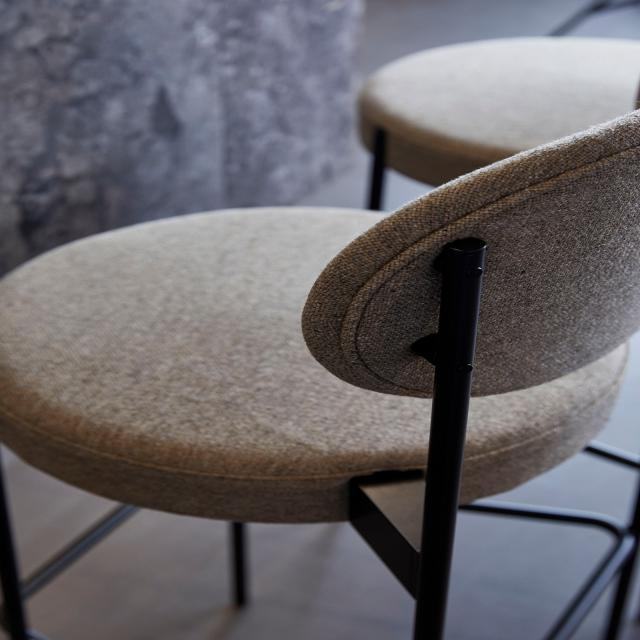chair: (0, 93, 640, 640), (0, 98, 640, 454), (333, 0, 640, 203)
